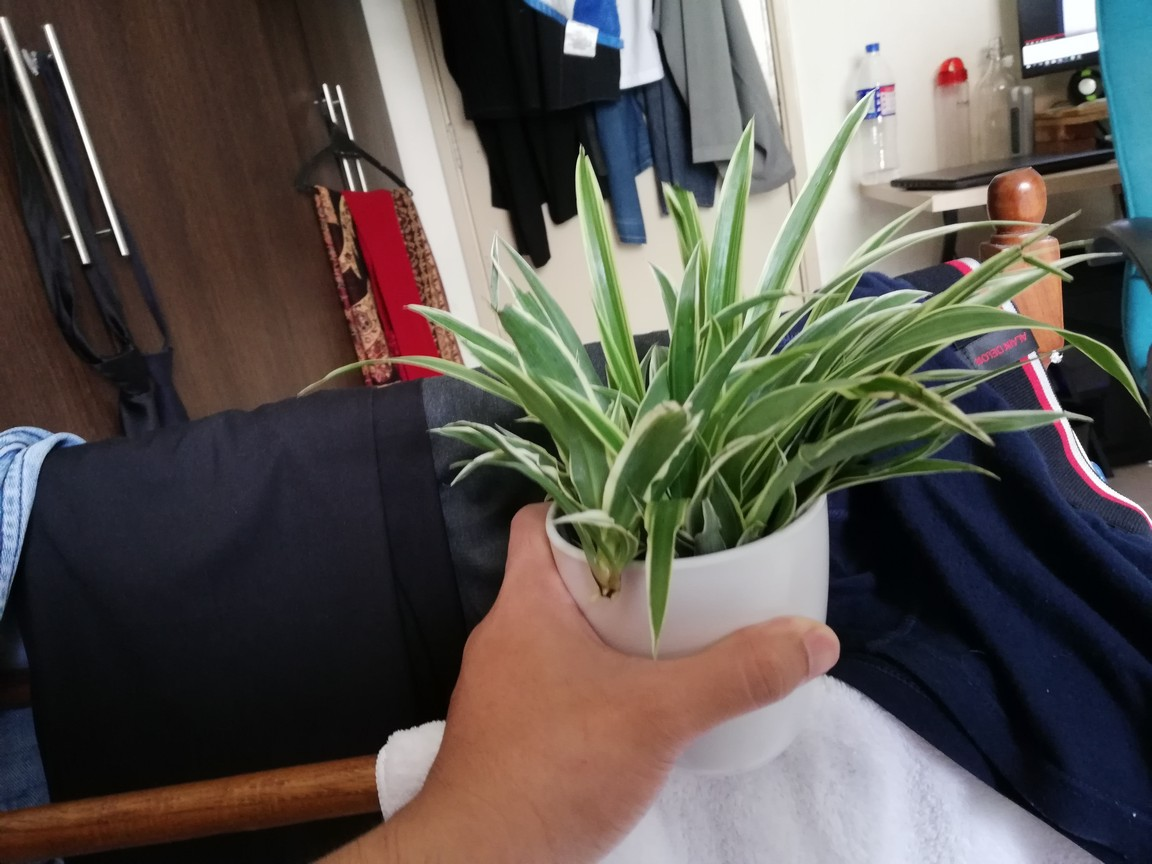daun: (800, 83, 882, 227), (297, 354, 463, 404), (574, 135, 620, 297), (714, 301, 783, 396), (540, 371, 617, 451), (712, 112, 757, 248), (999, 249, 1125, 297), (498, 234, 559, 326), (457, 338, 532, 411), (1083, 338, 1150, 419), (875, 220, 1050, 251), (646, 524, 673, 662), (987, 406, 1100, 438), (403, 298, 479, 341), (858, 191, 942, 226), (678, 236, 706, 330), (642, 251, 678, 317), (933, 455, 1003, 488), (443, 451, 490, 497), (549, 508, 621, 535), (424, 421, 491, 445), (701, 312, 724, 380), (825, 292, 880, 320), (877, 285, 935, 310), (494, 419, 517, 441)
